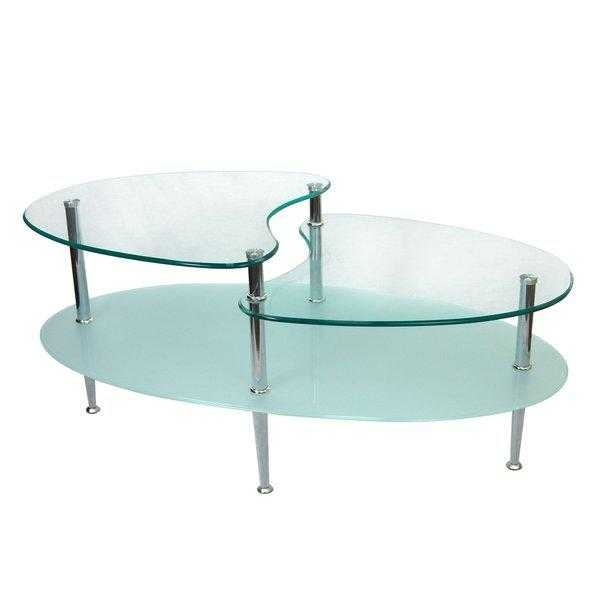obstacle: (24, 171, 572, 492)
